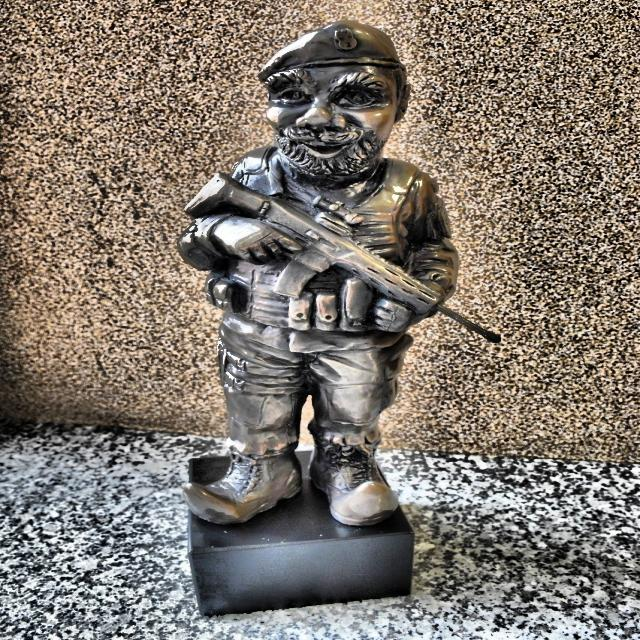WOTus: (178, 21, 500, 526)
